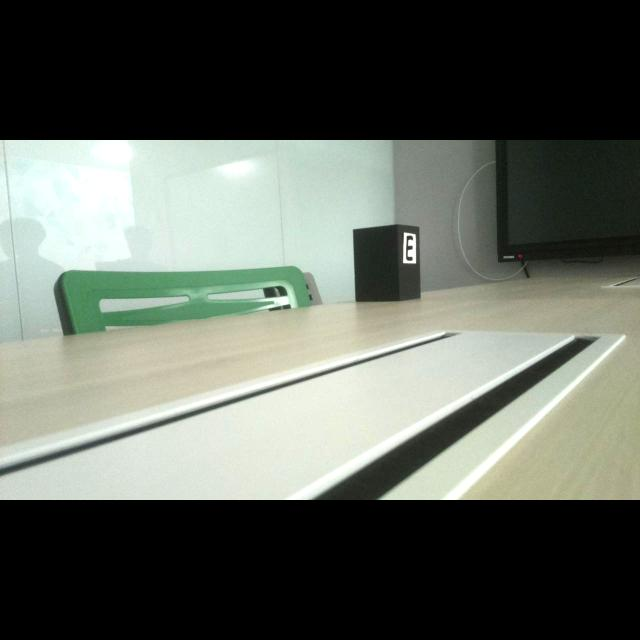E: (406, 235, 413, 261)
